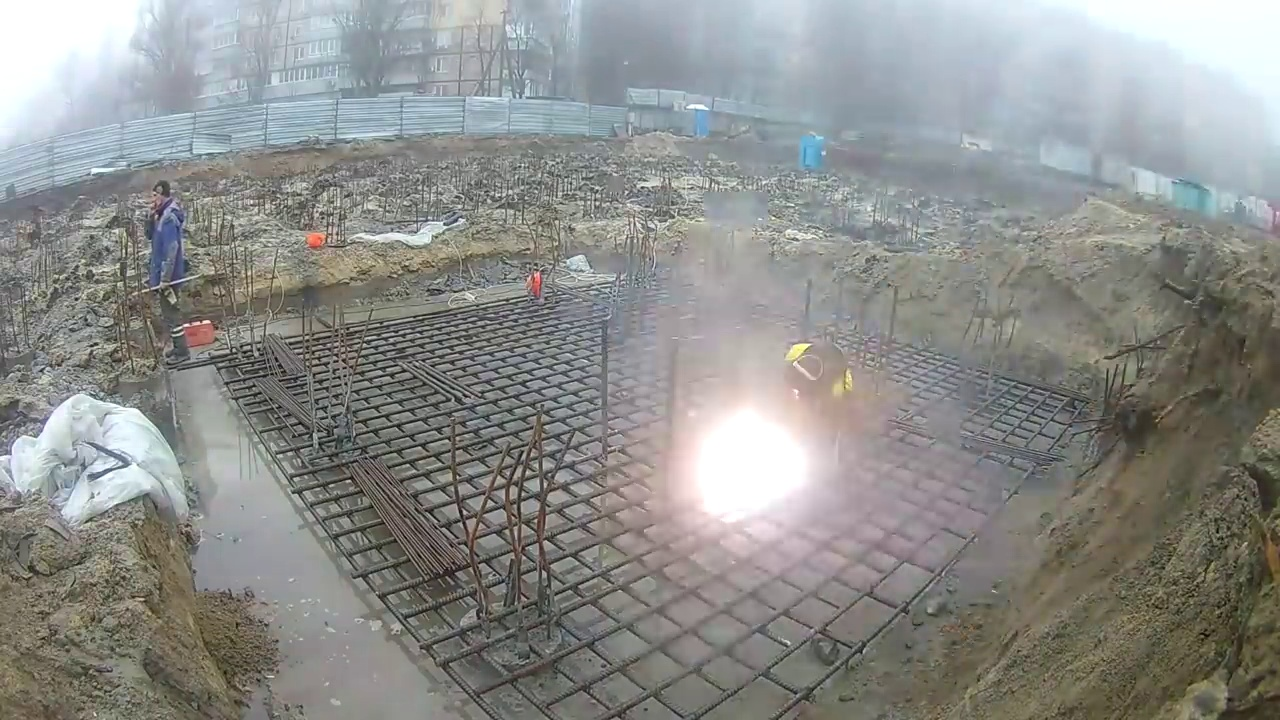helmet: (526, 271, 541, 299), (305, 232, 326, 250)
helmet-off: (786, 350, 828, 401), (150, 178, 175, 212)
person: (137, 178, 201, 368), (772, 342, 859, 446)
